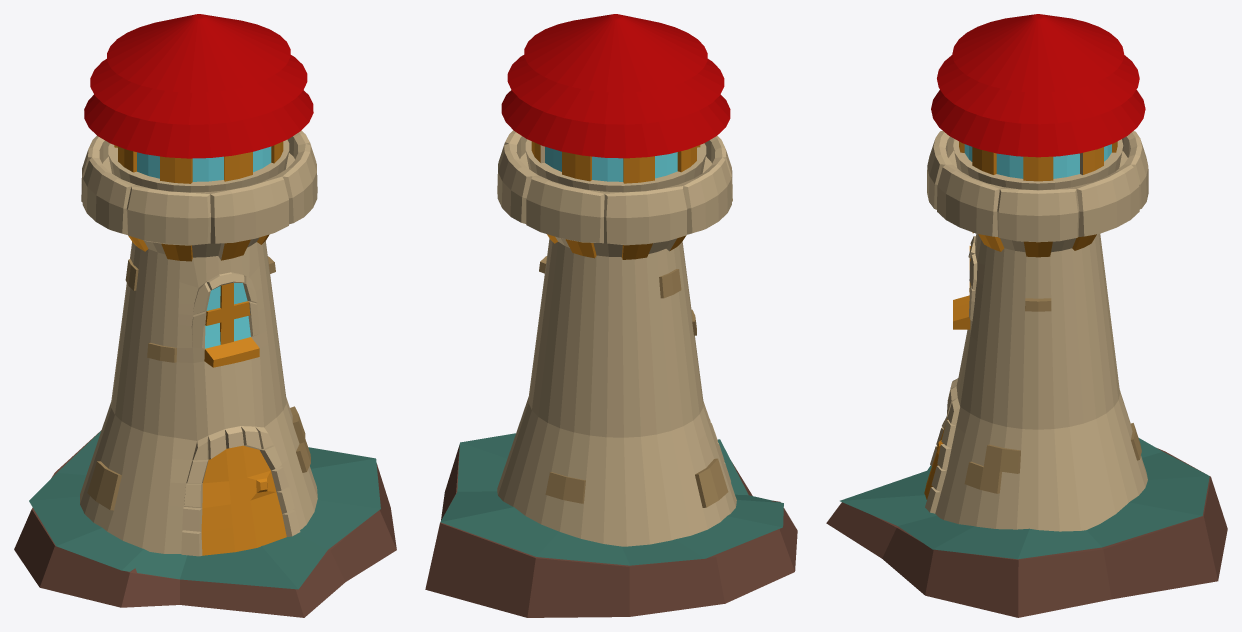
File: AlevKule1.fbx
3 renders of one model, left to right at view 1: azimuth 30°, elevation 25°; view 2: azimuth 150°, elevation 25°; view 3: azimuth 270°, elevation 25°, orthographic. The views are drawn at different scales.
Parts seen in each view (by area): view 1: Cylinder.006, cımen.005, Circle.006; view 2: Cylinder.006, Circle.006, cımen.005; view 3: Cylinder.006, Circle.006, cımen.005.
Boxes of the visible parts, x1,y1,x2,y2 form: Cylinder.006: [80, 14, 317, 556]; cımen.005: [29, 431, 380, 589]; Circle.006: [14, 430, 396, 617]; Cylinder.006: [497, 14, 736, 546]; Circle.006: [425, 445, 797, 617]; cımen.005: [440, 433, 783, 565]; Cylinder.006: [924, 14, 1148, 531]; Circle.006: [826, 448, 1227, 617]; cımen.005: [840, 438, 1209, 559].
Bounding box in the file's own units: 488 × 705 × 496.
